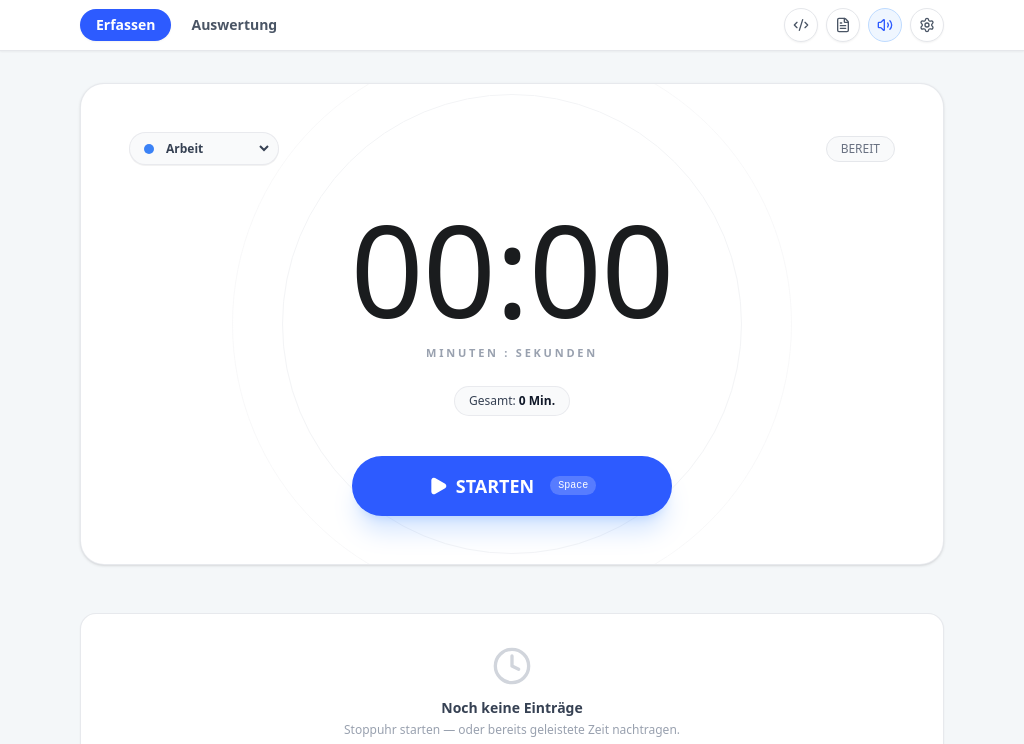
Test: App persistence warnings › warns when a write is rejected
Click the button titled "Signaltöne an" at (885, 25), box [868, 8, 902, 42]
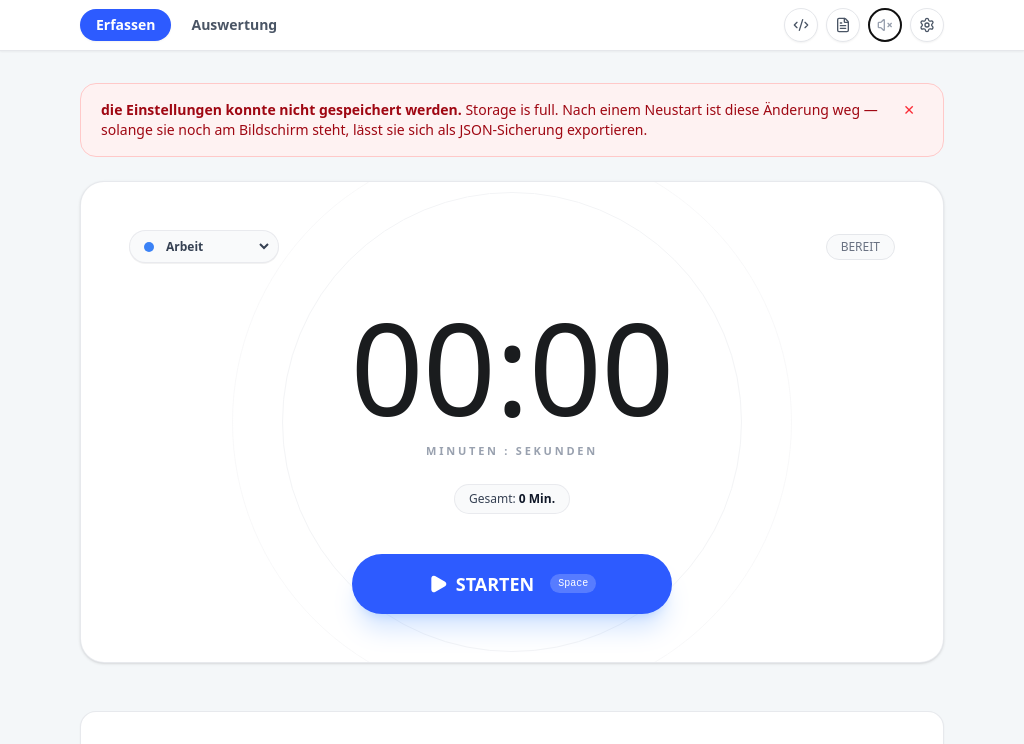
Check: the text "die Einstellungen konnte nicht gespeichert werden." is shown, box [101, 100, 462, 119]
Check: the text "Nach einem Neustart ist diese Änderung weg" is shown, box [101, 100, 878, 139]
